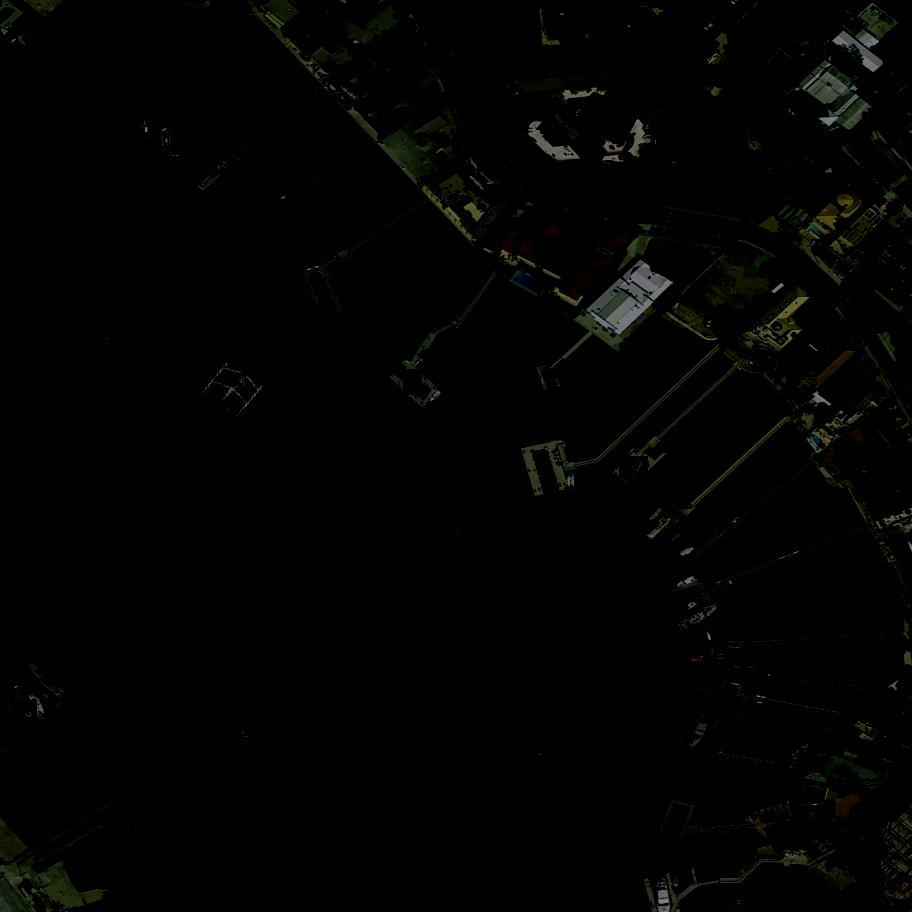ship: (194, 355, 271, 429), (25, 661, 69, 705), (678, 601, 723, 637), (684, 716, 713, 756), (619, 455, 648, 489), (403, 368, 422, 396), (27, 694, 48, 719), (17, 700, 38, 723), (676, 600, 703, 614), (0, 28, 19, 47), (676, 575, 699, 590), (648, 507, 665, 525), (662, 525, 681, 541), (711, 726, 726, 743), (419, 349, 434, 365), (679, 546, 696, 559), (430, 390, 443, 405), (567, 473, 576, 491), (897, 418, 910, 430), (733, 699, 743, 713), (880, 14, 894, 24), (26, 40, 38, 51), (871, 6, 883, 17), (885, 406, 898, 416), (240, 730, 250, 742), (673, 876, 682, 889), (22, 33, 32, 43), (687, 655, 703, 661), (548, 435, 562, 440), (727, 672, 740, 676)
small-vehicle: (702, 18, 719, 33), (450, 93, 464, 110), (846, 335, 862, 349), (679, 268, 692, 285), (674, 274, 687, 288), (705, 314, 715, 329), (880, 173, 890, 187), (811, 238, 822, 250), (887, 71, 899, 82), (680, 242, 690, 255), (882, 68, 895, 78), (437, 5, 446, 18), (860, 152, 869, 164), (460, 58, 468, 70), (458, 127, 465, 138)
